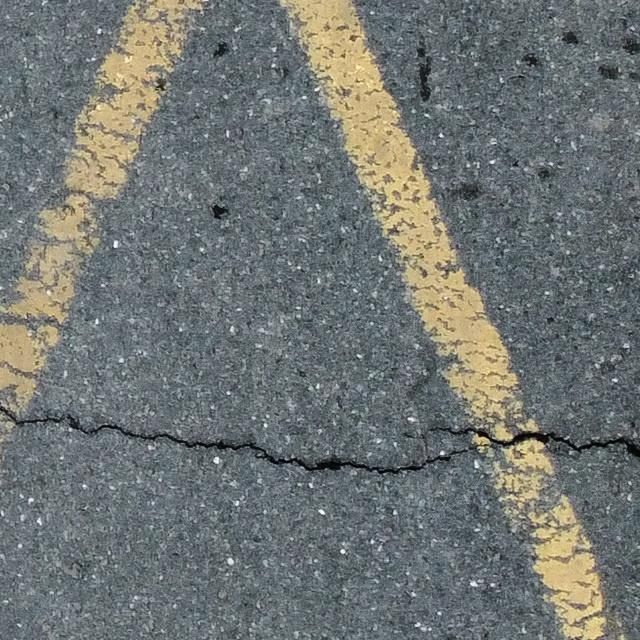TransverseCrack: (1, 404, 640, 476)
